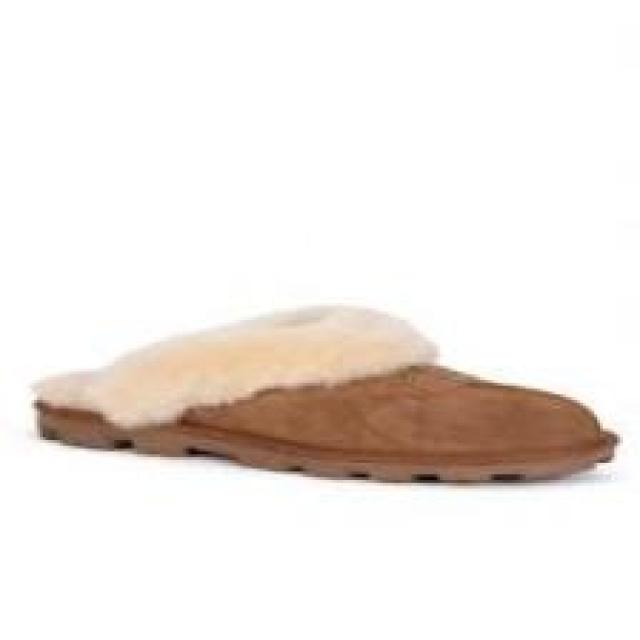shoe: (36, 307, 619, 482)
